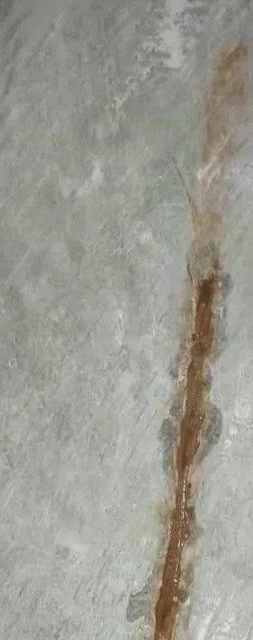Exposed reinforcement: (153, 277, 215, 640)
